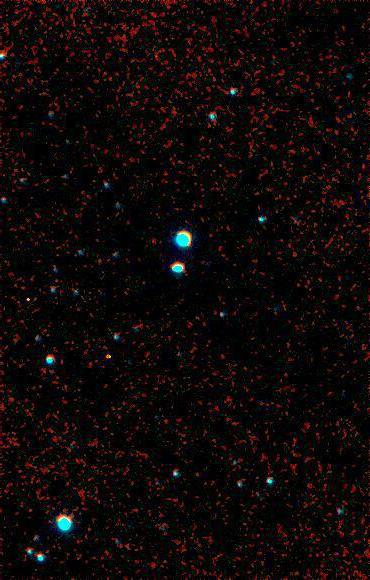star: (15, 286, 45, 316)
